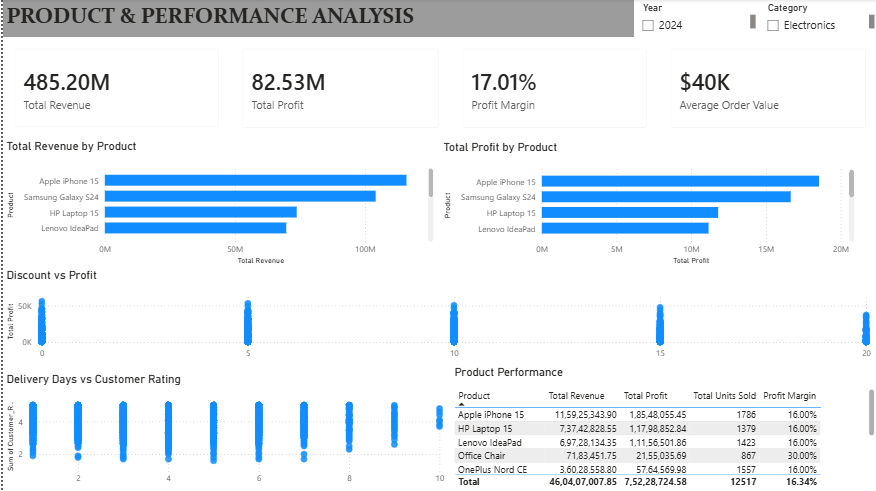

The page's visual inventory and layout, read from the dashboard file:
{"tool":"powerbi","page":{"name":"Product & Performance Analysis","canvas":[1280,720],"ordinal":2},"visuals":[{"type":"textbox","box":[0,0,1280.5,55.6],"z":0},{"type":"cardVisual","fields":{"Data":["indian_ecommerce_sales_cleaned.Total Revenue"]},"box":[0,55.6,333.7,149.3],"z":1000},{"type":"cardVisual","fields":{"Data":["indian_ecommerce_sales_cleaned.Total Profit"]},"box":[333.7,55.6,322,150.7],"z":2000},{"type":"cardVisual","fields":{"Data":["indian_ecommerce_sales_cleaned.Profit Margin"]},"box":[655.6,55.6,304.4,150.7],"z":3000},{"type":"clusteredBarChart","fields":{"Category":["indian_ecommerce_sales_cleaned.Product"],"Y":["indian_ecommerce_sales_cleaned.Total Revenue"]},"box":[0,204.9,635,188.1],"z":4000},{"type":"clusteredBarChart","fields":{"Category":["indian_ecommerce_sales_cleaned.Product"],"Y":["indian_ecommerce_sales_cleaned.Total Profit"]},"box":[640,206.6,611.4,186.5],"z":5000},{"type":"scatterChart","title":"Discount vs Profit","fields":{"X":["Sum(indian_ecommerce_sales_cleaned.Discount_Pct)"],"Y":["indian_ecommerce_sales_cleaned.Total Profit"],"Category":["indian_ecommerce_sales_cleaned.Order_ID"]},"box":[0,393.7,1280,142.8],"z":6000},{"type":"scatterChart","title":"Delivery Days vs Customer Rating","fields":{"X":["Sum(indian_ecommerce_sales_cleaned.Delivery_Days)"],"Y":["Sum(indian_ecommerce_sales_cleaned.Customer_Rating)"],"Category":["indian_ecommerce_sales_cleaned.Order_ID"]},"box":[0,545.9,655.6,174.1],"z":7000},{"type":"tableEx","title":"Product Performance","fields":{"Values":["indian_ecommerce_sales_cleaned.Product","indian_ecommerce_sales_cleaned.Total Revenue","indian_ecommerce_sales_cleaned.Total Profit","indian_ecommerce_sales_cleaned.Total Units Sold","indian_ecommerce_sales_cleaned.Profit Margin"]},"box":[655.6,535.6,624.9,184.4],"z":8000},{"type":"cardVisual","fields":{"Data":["indian_ecommerce_sales_cleaned.Average Order Value"]},"box":[960,55.6,320.5,150.7],"z":9500},{"type":"slicer","fields":{"Values":["indian_ecommerce_sales_cleaned.Year"]},"box":[923.4,0,183.1,59.2],"z":9501},{"type":"slicer","fields":{"Values":["indian_ecommerce_sales_cleaned.Category"]},"box":[1106.3,0,174,55.8],"z":9502}]}

Visuals, with their boxes in screenshot pixels (x1, y1, x2, y2), scaled from the page's 1280x720 canvas onto the 876x491 screenshot:
textbox: left=0, top=0, right=875, bottom=38
cardVisual - indian_ecommerce_sales_cleaned.Total Revenue: left=0, top=38, right=228, bottom=140
cardVisual - indian_ecommerce_sales_cleaned.Total Profit: left=228, top=38, right=449, bottom=141
cardVisual - indian_ecommerce_sales_cleaned.Profit Margin: left=449, top=38, right=657, bottom=141
clusteredBarChart - indian_ecommerce_sales_cleaned.Product x indian_ecommerce_sales_cleaned.Total Revenue: left=0, top=140, right=435, bottom=268
clusteredBarChart - indian_ecommerce_sales_cleaned.Product x indian_ecommerce_sales_cleaned.Total Profit: left=438, top=141, right=856, bottom=268
"Discount vs Profit" scatterChart: left=0, top=268, right=875, bottom=366
"Delivery Days vs Customer Rating" scatterChart: left=0, top=372, right=449, bottom=490
"Product Performance" tableEx: left=449, top=365, right=875, bottom=490
cardVisual - indian_ecommerce_sales_cleaned.Average Order Value: left=657, top=38, right=875, bottom=141
slicer - indian_ecommerce_sales_cleaned.Year: left=632, top=0, right=757, bottom=40
slicer - indian_ecommerce_sales_cleaned.Category: left=757, top=0, right=875, bottom=38
